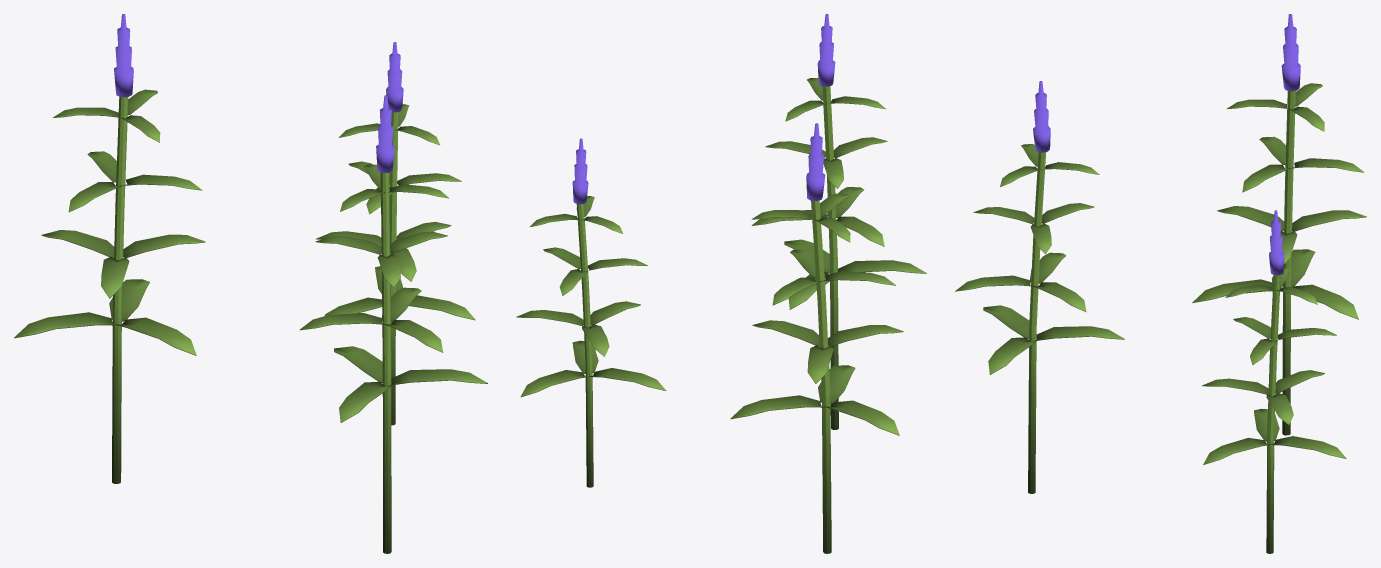
File: rantakukka_keskikokoinen.fbx
3 renders of one model, left to right at view 1: azimuth 30°, elevation 25°; view 2: azimuth 150°, elevation 25°; view 3: azimuth 270°, elevation 25°, orthographic. The views are drawn at different scales.
Visible parts, largest first — view 1: rantakukka_keskikokoinen; view 2: rantakukka_keskikokoinen; view 3: rantakukka_keskikokoinen.
Part boxes in pixels (x1,y1,x2,y2): rantakukka_keskikokoinen: [14, 14, 487, 553]; rantakukka_keskikokoinen: [516, 14, 926, 553]; rantakukka_keskikokoinen: [955, 14, 1366, 553].
Bounding box in the file's own units: 1.62 × 1.84 × 1.77.
